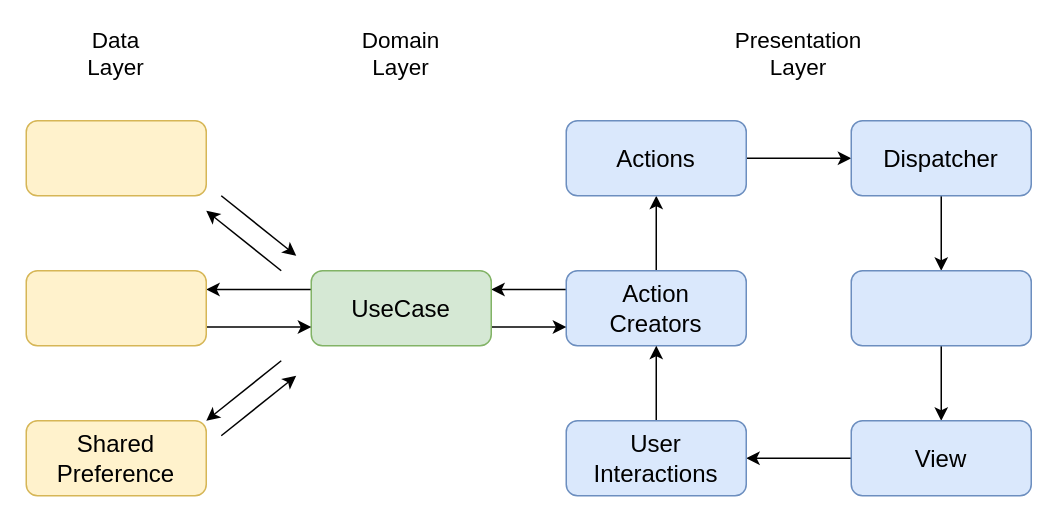
Image size: 1058x522. Some labels were removed from this diagram. The centre of each missing label's shape, as x and y in pixels:
SQLite: the point at 115,307
Store: the point at 940,307
Web API: the point at 115,157
